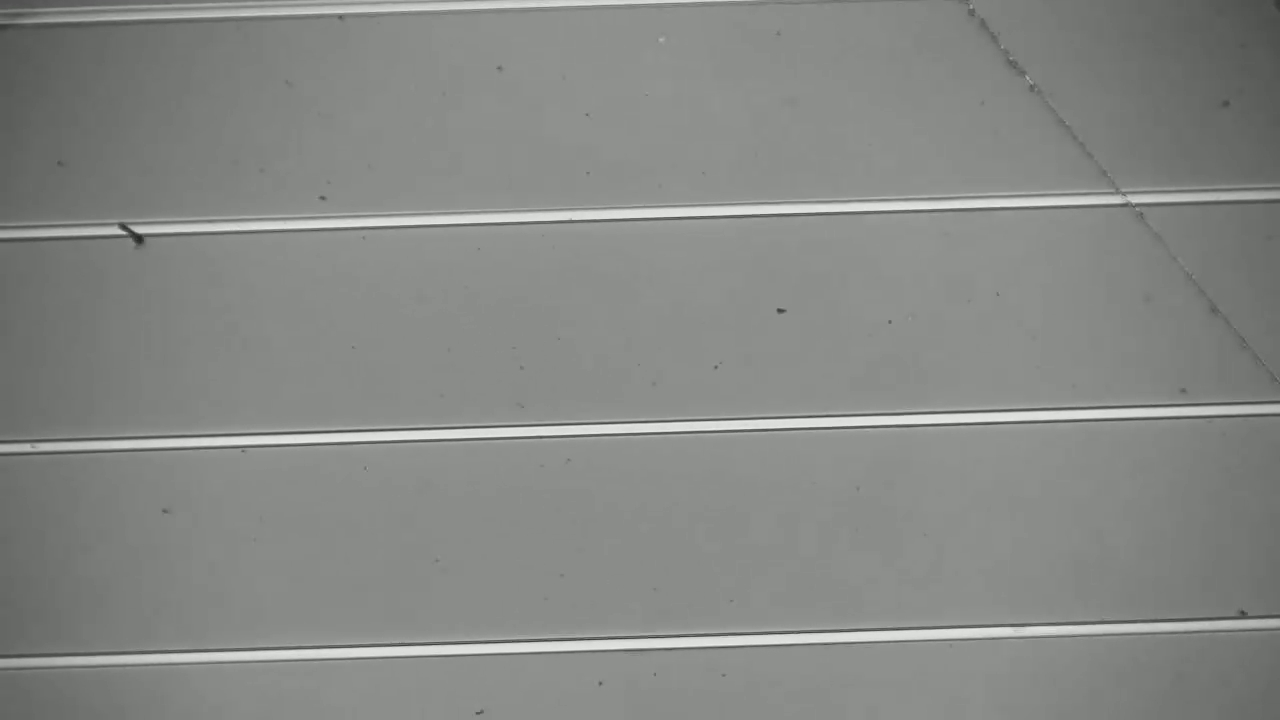scratch: (960, 4, 1274, 379)
stains_enbedded: (110, 203, 175, 263)
